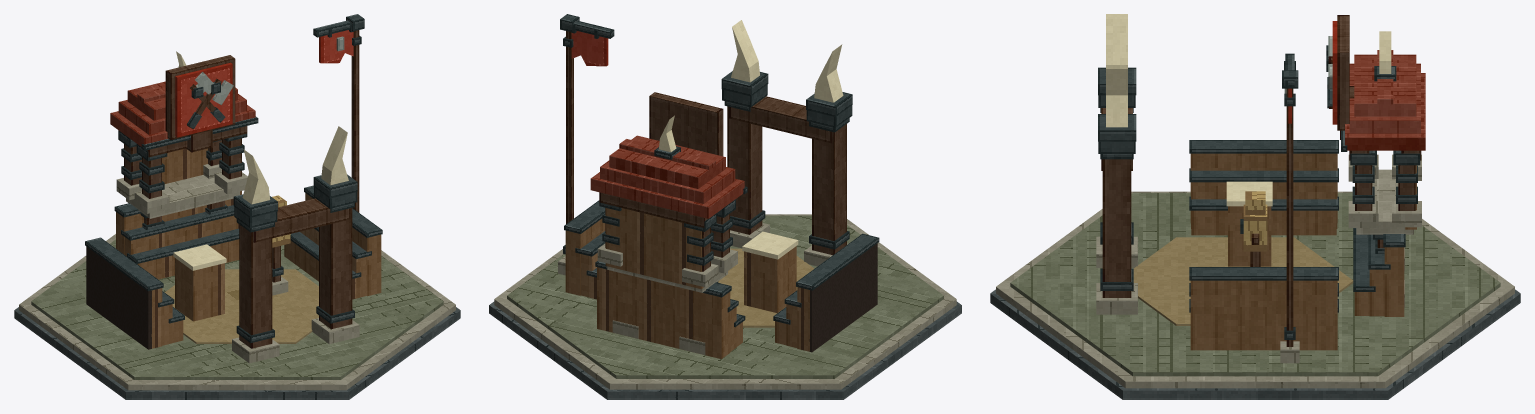
Rendered from orc_warrior_mastery_hex_v1.glb.
3 renders of one model, left to right at view 1: azimuth 30°, elevation 25°; view 2: azimuth 150°, elevation 25°; view 3: azimuth 270°, elevation 25°, orthographic. The views are drawn at different scales.
Parts seen in each view (by area): view 1: Orc_Warrior_Mastery_Hex_V1_Foundation, Orc_Warrior_Mastery_Hex_V1_Courtyard, Orc_Warrior_Mastery_Hex_V1_Hall, Orc_Warrior_Mastery_Hex_V1_Faction, Orc_Warrior_Mastery_Hex_V1_Training, Orc_Warrior_Mastery_Hex_V1_Roofs, Orc_Warrior_Mastery_Hex_V1_Focus, Orc_Warrior_Mastery_Hex_V1_Details; view 2: Orc_Warrior_Mastery_Hex_V1_Foundation, Orc_Warrior_Mastery_Hex_V1_Hall, Orc_Warrior_Mastery_Hex_V1_Courtyard, Orc_Warrior_Mastery_Hex_V1_Roofs, Orc_Warrior_Mastery_Hex_V1_Faction, Orc_Warrior_Mastery_Hex_V1_Training, Orc_Warrior_Mastery_Hex_V1_Focus, Orc_Warrior_Mastery_Hex_V1_Details; view 3: Orc_Warrior_Mastery_Hex_V1_Foundation, Orc_Warrior_Mastery_Hex_V1_Courtyard, Orc_Warrior_Mastery_Hex_V1_Hall, Orc_Warrior_Mastery_Hex_V1_Roofs, Orc_Warrior_Mastery_Hex_V1_Faction, Orc_Warrior_Mastery_Hex_V1_Training, Orc_Warrior_Mastery_Hex_V1_Focus, Orc_Warrior_Mastery_Hex_V1_Details.
Boxes of the visible parts, x1,y1,x2,y2 form: Orc_Warrior_Mastery_Hex_V1_Foundation: [14, 234, 460, 399]; Orc_Warrior_Mastery_Hex_V1_Courtyard: [85, 185, 382, 349]; Orc_Warrior_Mastery_Hex_V1_Hall: [116, 126, 359, 363]; Orc_Warrior_Mastery_Hex_V1_Faction: [165, 14, 364, 212]; Orc_Warrior_Mastery_Hex_V1_Training: [173, 195, 290, 321]; Orc_Warrior_Mastery_Hex_V1_Roofs: [110, 51, 258, 150]; Orc_Warrior_Mastery_Hex_V1_Focus: [234, 126, 357, 228]; Orc_Warrior_Mastery_Hex_V1_Details: [121, 35, 361, 342]; Orc_Warrior_Mastery_Hex_V1_Foundation: [489, 214, 961, 399]; Orc_Warrior_Mastery_Hex_V1_Hall: [597, 71, 852, 354]; Orc_Warrior_Mastery_Hex_V1_Courtyard: [564, 200, 879, 359]; Orc_Warrior_Mastery_Hex_V1_Roofs: [590, 115, 747, 218]; Orc_Warrior_Mastery_Hex_V1_Faction: [558, 14, 723, 275]; Orc_Warrior_Mastery_Hex_V1_Training: [742, 231, 798, 313]; Orc_Warrior_Mastery_Hex_V1_Focus: [722, 20, 852, 127]; Orc_Warrior_Mastery_Hex_V1_Details: [563, 36, 849, 265]; Orc_Warrior_Mastery_Hex_V1_Foundation: [990, 191, 1520, 399]; Orc_Warrior_Mastery_Hex_V1_Courtyard: [1133, 140, 1405, 350]; Orc_Warrior_Mastery_Hex_V1_Hall: [1096, 67, 1421, 314]; Orc_Warrior_Mastery_Hex_V1_Roofs: [1341, 31, 1425, 151]; Orc_Warrior_Mastery_Hex_V1_Faction: [1280, 15, 1354, 363]; Orc_Warrior_Mastery_Hex_V1_Training: [1226, 181, 1272, 266]; Orc_Warrior_Mastery_Hex_V1_Focus: [1098, 14, 1135, 153]; Orc_Warrior_Mastery_Hex_V1_Details: [1100, 93, 1417, 339].
Size of the model in its own units: 1.59 by 1.17 by 1.84.
Materials: 1 (1 with a texture image).
